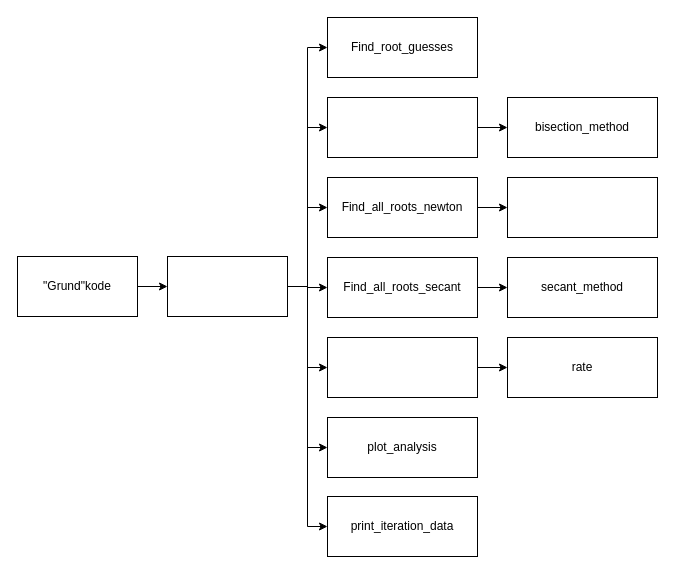
The diagram is 675 pixels wide and 574 high, and some of its shapes have lost their labels. Here are the shapes that lost their labels. From the top down, the centre of each, then its label:
[402,127]: Find_all_roots_bisection
[582,207]: newtons_method
[227,286]: Analyze
[402,367]: Compute_and_print_rates
